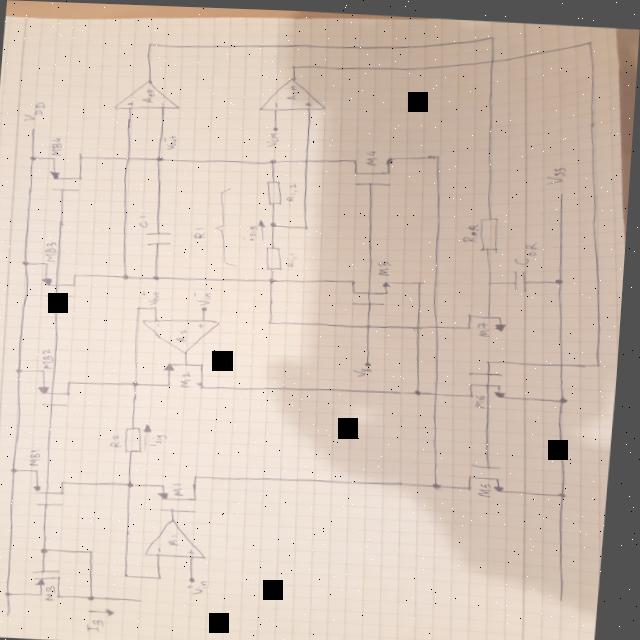capacitor: (142, 228, 175, 248), (514, 265, 530, 289)
crossover: (417, 321, 425, 327), (560, 357, 568, 363), (488, 54, 495, 60), (124, 155, 132, 160), (303, 156, 311, 161), (366, 321, 374, 326), (435, 321, 443, 326), (436, 388, 444, 392)
junction: (436, 478, 446, 486), (269, 275, 280, 282), (561, 392, 572, 399), (153, 273, 163, 280), (155, 155, 166, 161), (562, 488, 572, 494), (556, 274, 566, 280), (289, 61, 297, 68), (417, 386, 426, 392), (123, 273, 132, 279), (486, 31, 495, 37), (271, 219, 279, 225), (15, 467, 23, 473), (134, 379, 142, 385), (29, 155, 37, 161), (24, 259, 32, 265), (10, 590, 18, 596), (131, 480, 139, 486), (18, 367, 26, 373), (145, 40, 153, 46), (46, 547, 54, 553), (128, 572, 137, 577), (487, 356, 496, 361), (161, 574, 170, 579), (584, 35, 591, 41), (93, 594, 101, 599), (304, 223, 312, 228), (93, 548, 101, 553), (433, 151, 441, 156), (270, 158, 278, 162), (418, 277, 426, 281), (597, 358, 605, 362), (138, 304, 144, 309), (489, 277, 496, 281), (270, 318, 276, 322), (154, 305, 160, 308)
resistor: (479, 212, 504, 250), (265, 178, 287, 204), (265, 243, 286, 269), (127, 425, 148, 451)
terminal: (560, 591, 575, 599), (193, 575, 203, 580), (203, 305, 211, 310), (558, 188, 566, 192), (366, 359, 374, 363), (272, 125, 280, 129), (31, 126, 37, 130), (143, 598, 149, 602), (12, 612, 17, 616)
text: (514, 237, 540, 262), (23, 99, 48, 122), (544, 162, 567, 181), (464, 218, 483, 241), (192, 577, 215, 596), (44, 346, 61, 369), (44, 240, 60, 262), (91, 616, 114, 631), (243, 221, 260, 241), (161, 132, 180, 149), (49, 135, 64, 156), (286, 180, 301, 200), (149, 432, 172, 445), (142, 290, 163, 304), (195, 291, 216, 305), (32, 448, 47, 467), (378, 257, 394, 274), (363, 147, 380, 163), (283, 82, 300, 98), (140, 86, 157, 101), (177, 327, 194, 342), (182, 369, 196, 387), (482, 478, 497, 494), (356, 364, 377, 375), (479, 318, 494, 333), (138, 212, 153, 227), (266, 129, 280, 145), (175, 481, 191, 495), (50, 584, 63, 601), (114, 432, 128, 447), (194, 224, 210, 237), (288, 250, 299, 266), (478, 390, 490, 404), (173, 532, 185, 544), (270, 99, 281, 107), (126, 99, 136, 106), (160, 545, 171, 551), (197, 320, 207, 326), (303, 99, 312, 105), (193, 547, 201, 553), (158, 100, 166, 105), (156, 322, 165, 326)
transistor: (159, 471, 209, 513), (35, 467, 80, 510), (46, 148, 88, 194), (39, 260, 84, 300), (36, 369, 79, 409), (349, 150, 396, 186), (163, 358, 214, 390), (348, 274, 396, 306), (468, 457, 512, 491), (467, 365, 513, 397), (35, 566, 76, 599), (465, 306, 511, 330)
